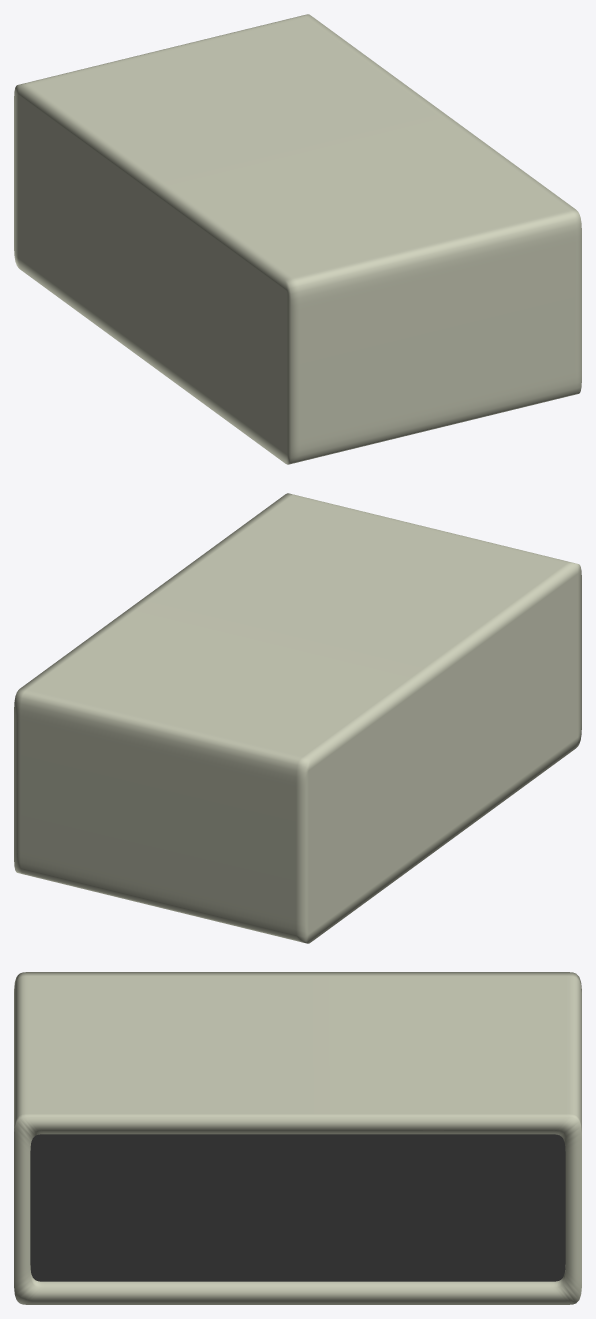
The model's file is alarmclock.fbx.
3 renders of one model, top to bottom at view 1: azimuth 30°, elevation 25°; view 2: azimuth 150°, elevation 25°; view 3: azimuth 270°, elevation 25°, orthographic. The views are drawn at different scales.
Visible parts, largest first — view 1: LowRes; view 2: LowRes; view 3: LowRes, Plane.
Part boxes in pixels (box(x1,y1,x2,y2)): LowRes: box(14, 14, 581, 464); LowRes: box(14, 493, 581, 943); LowRes: box(14, 972, 581, 1304); Plane: box(30, 1134, 565, 1281).
Bounding box in the file's own units: 200 × 121 × 331.
